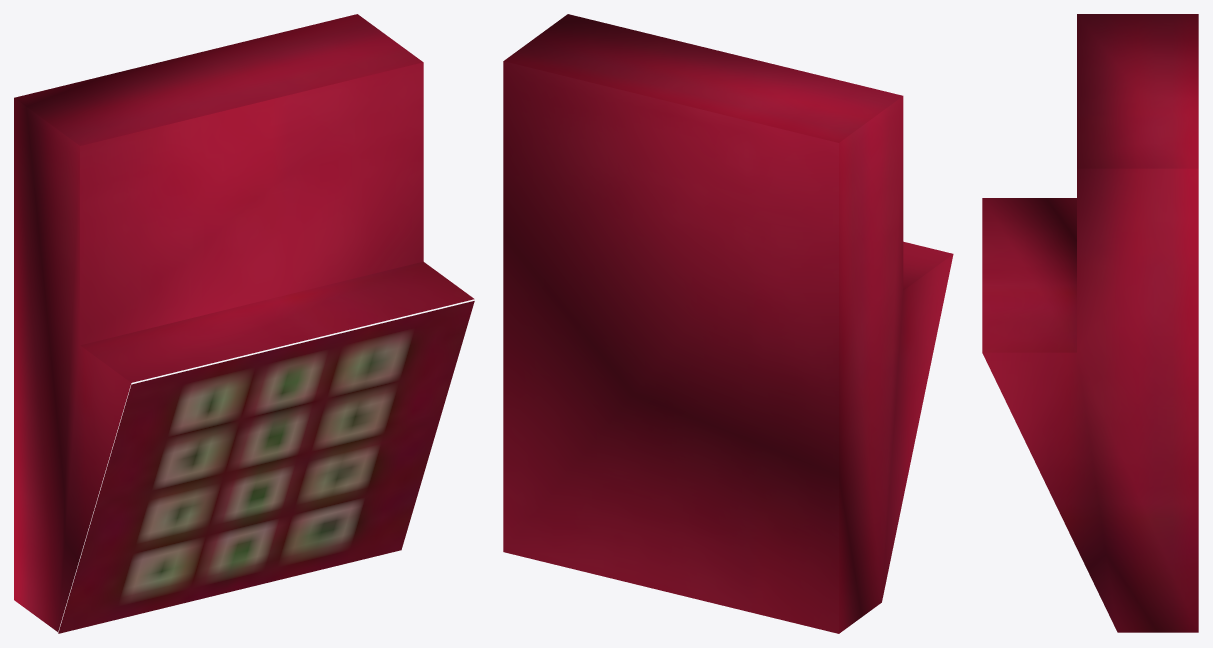
Rendered from phone.glb.
3 renders of one model, left to right at view 1: azimuth 30°, elevation 25°; view 2: azimuth 150°, elevation 25°; view 3: azimuth 270°, elevation 25°, orthographic. The views are drawn at different scales.
Parts seen in each view (by area): view 1: phone; view 2: phone; view 3: phone.
Part boxes in pixels (x1,y1,x2,y2): phone: (14,14,474,633); phone: (503,14,953,633); phone: (982,14,1198,632).
Size of the model in its own units: 0.9015 by 1.26 by 0.5333.
Materials: 1 (1 with a texture image).
